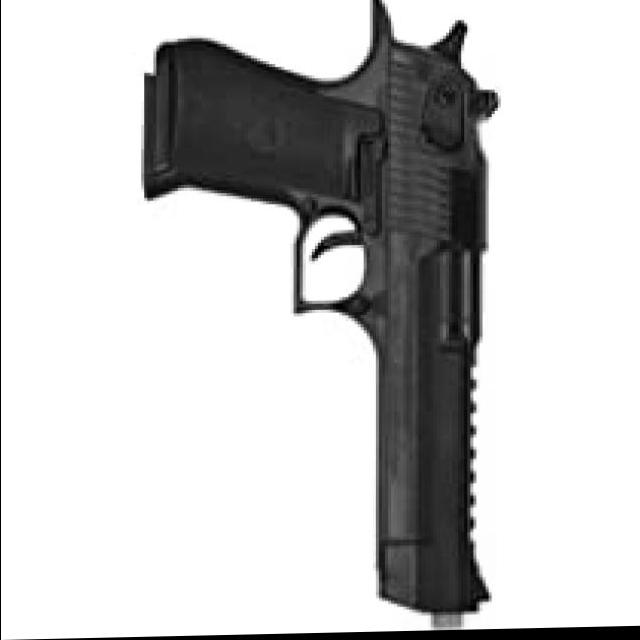handgun: (91, 0, 503, 638)
